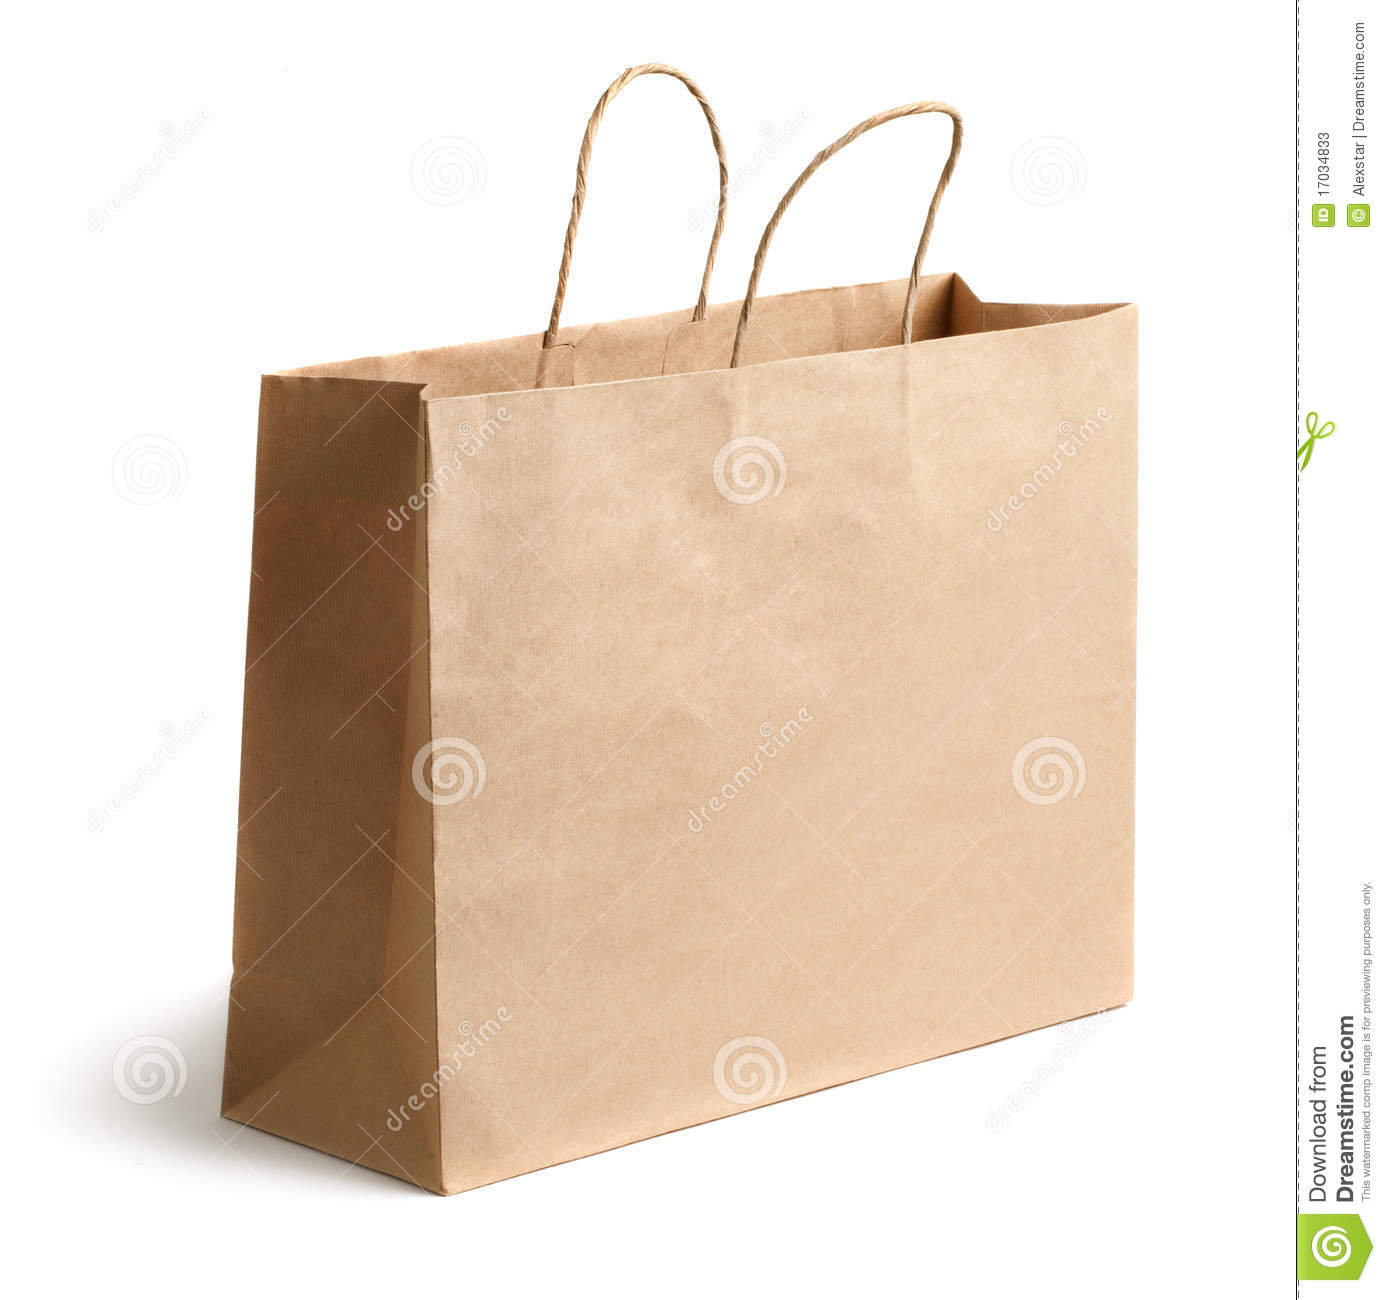flexible: (211, 66, 1162, 1201)
